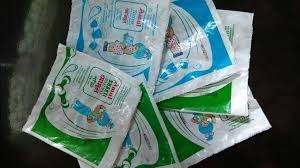plastic: (17, 41, 143, 167), (143, 9, 258, 122), (65, 1, 171, 98), (75, 82, 182, 168), (164, 88, 274, 165)
